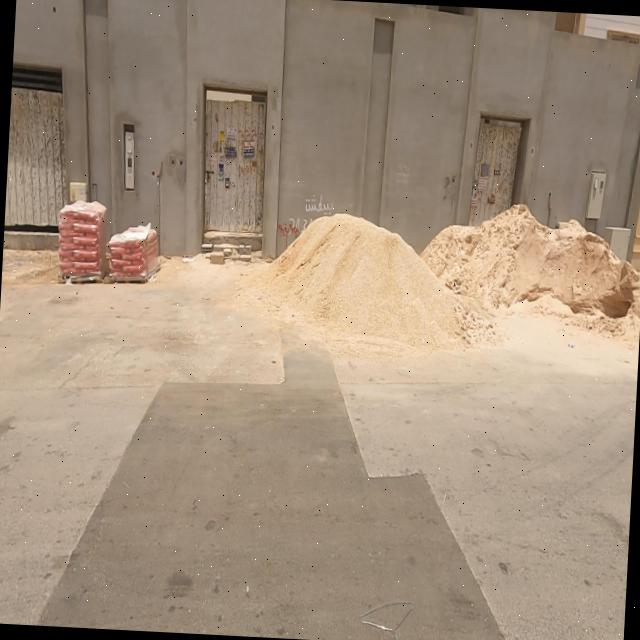Graffiti: (276, 214, 306, 240), (305, 196, 334, 219)
